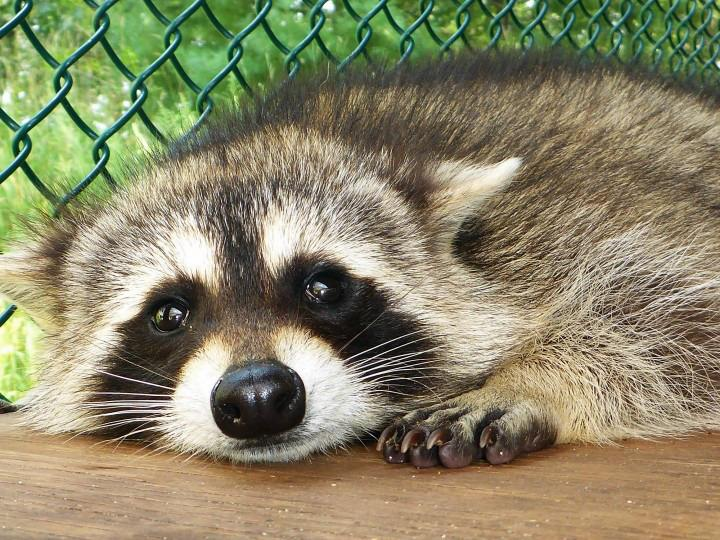raccoon: (0, 53, 720, 469)
